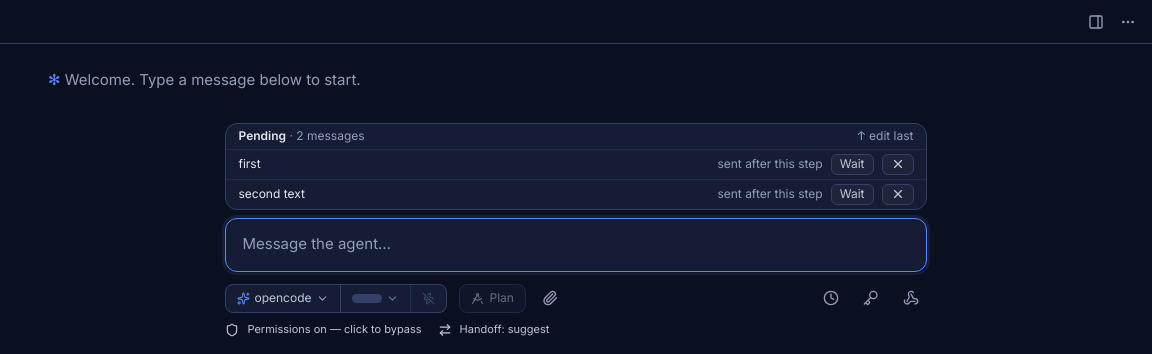
Test case: ChatPanel busy send + inbox › pending card (v2-next) › ↑ edit last (header button) pops the newest and restores its text — same as the ↑ key
This screenshot has width=1152, height=354.
Click the button with test id "inbox-edit-last".
click(886, 137)  # box [858,128,914,145]
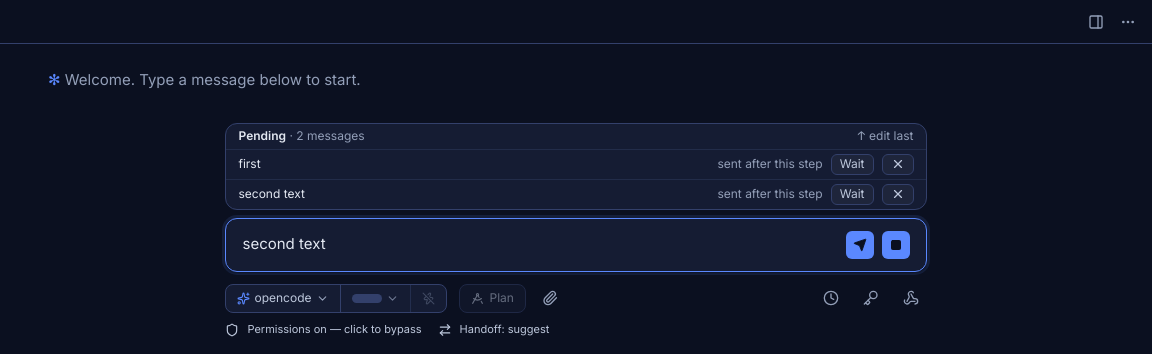
Check: the text box holds "second text", box [242,233,838,256]
